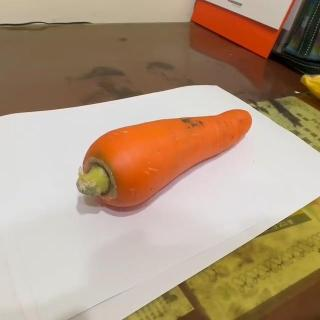carrot: (76, 108, 252, 210)
